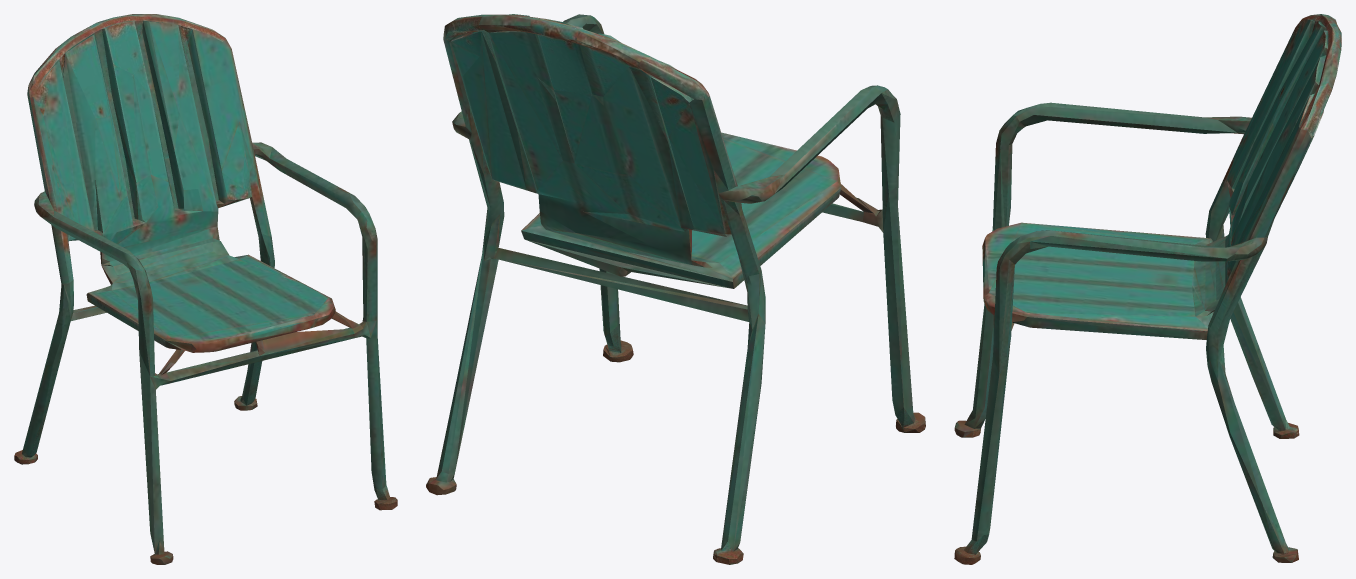
Rendered from rustyChair.glb.
The picture shows the model from 3 angles, left to right: view 1: azimuth 30°, elevation 25°; view 2: azimuth 150°, elevation 25°; view 3: azimuth 270°, elevation 25°; orthographic projection. The views are drawn at different scales.
Size of the model in its own units: 1.21 by 1.9 by 1.44.
Materials: 1 (1 with a texture image).
